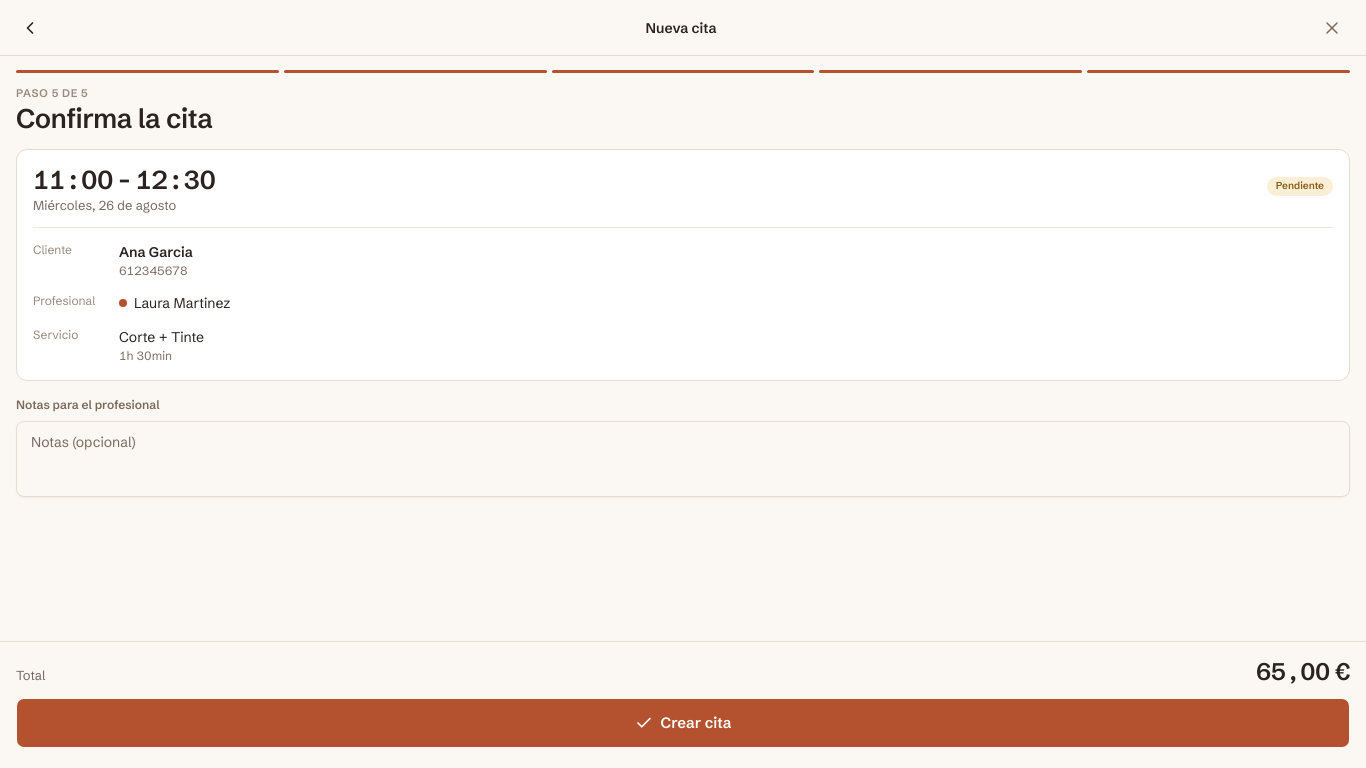
Test case: ConfirmationStep › mientras la mutacion esta en vuelo el CTA se deshabilita y dice 'Creando cita...'
What coordinates should you click on to do the following:
click the button "Crear cita"
I would click on:
 (683, 723)
Its box is [16,698,1350,748].
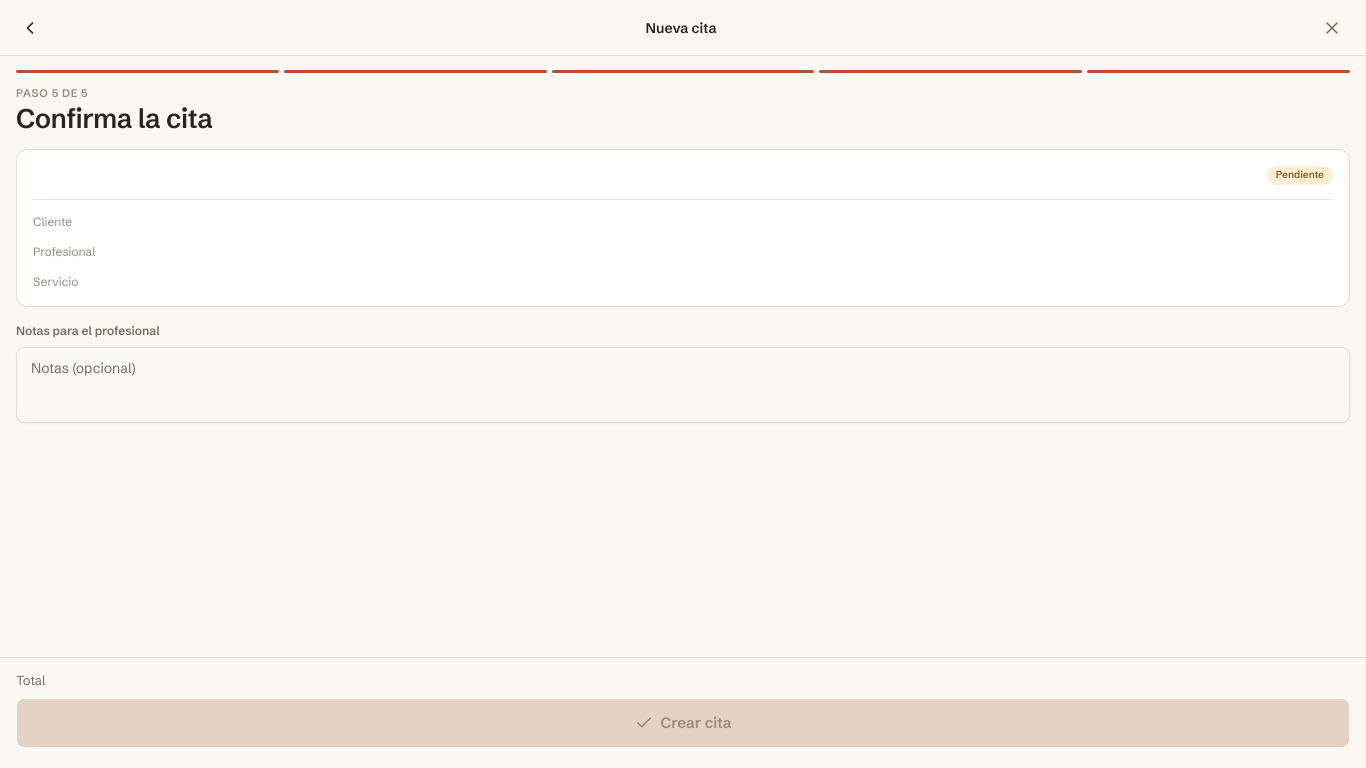
Expected: the button named "Creando cita..." is disabled, [16,698,1350,748]
